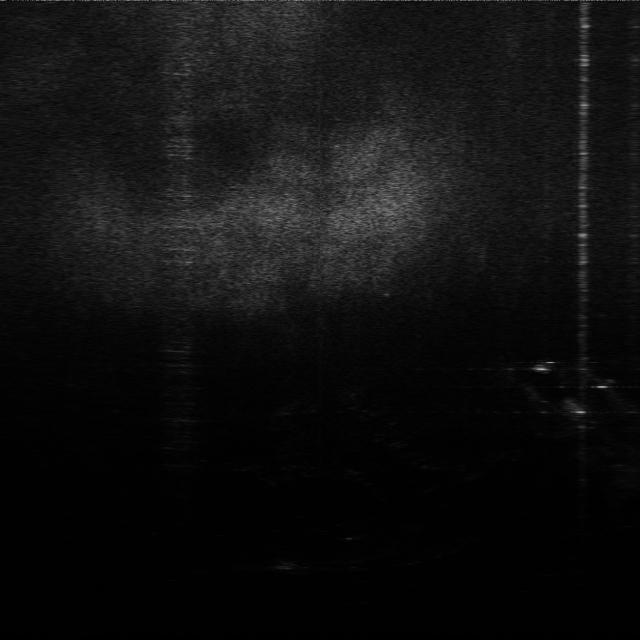rov: (529, 356, 563, 375)
